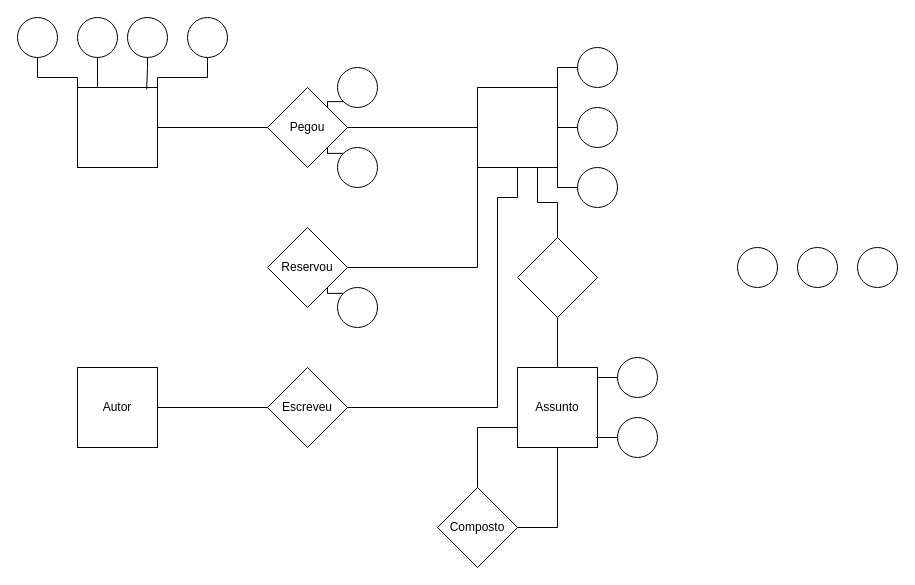
The diagram is 915 pixels wide and 585 high, and some of its shapes have lost their labels. Each missing label, with the centre of its shape:
Classificado: (557,277)
Livro: (517,127)
Usuário: (117,127)
